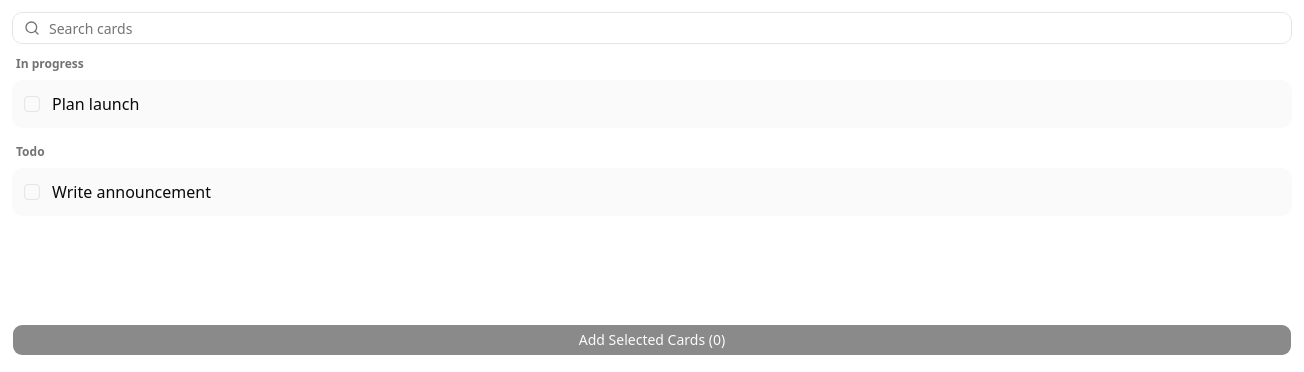
RemoteTaskImport › groups cards by remote status and filters them by title
Check: the heading "In progress" is shown, box [16, 56, 84, 72]
Type "announcement" into the field with placeholder "Search cards" at x=652, y=28, box [12, 12, 1292, 44]
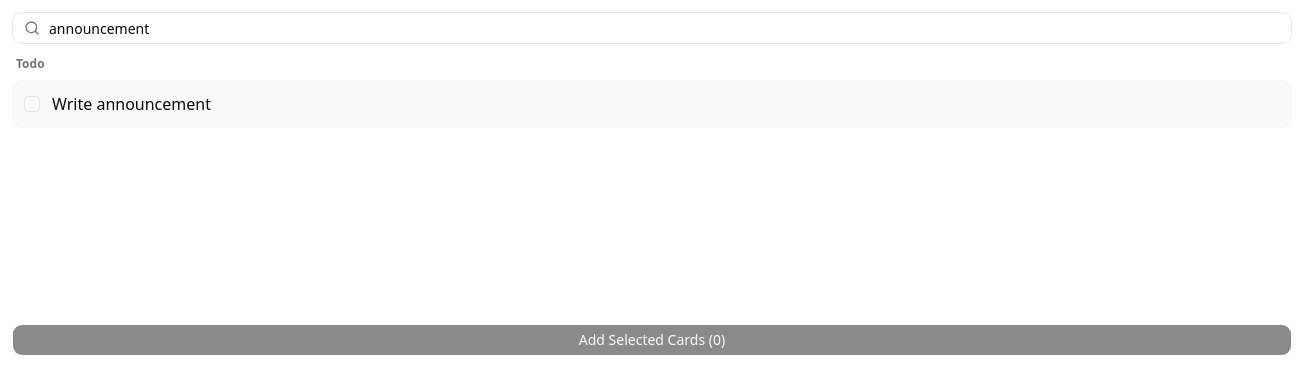
Check: the text "Write announcement" is shown, box [52, 93, 211, 115]
Check: the text "Plan launch" is gone
